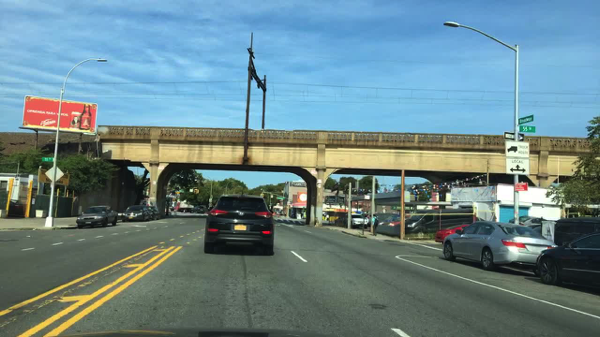car: (442, 220, 557, 272), (204, 193, 274, 255), (536, 233, 599, 289), (403, 207, 474, 236), (552, 217, 599, 246), (76, 204, 117, 229), (434, 224, 469, 245), (120, 205, 150, 224), (376, 216, 399, 234), (507, 213, 543, 222), (348, 213, 366, 229), (527, 223, 545, 236), (147, 206, 160, 221), (375, 212, 390, 222), (195, 204, 207, 214), (180, 207, 191, 213)
person: (370, 213, 380, 237), (367, 213, 372, 229)
traffic sign: (504, 142, 528, 176), (44, 166, 64, 183), (503, 130, 524, 142), (517, 115, 533, 126), (517, 125, 534, 134), (514, 184, 528, 191), (41, 156, 54, 163), (276, 196, 285, 200)
